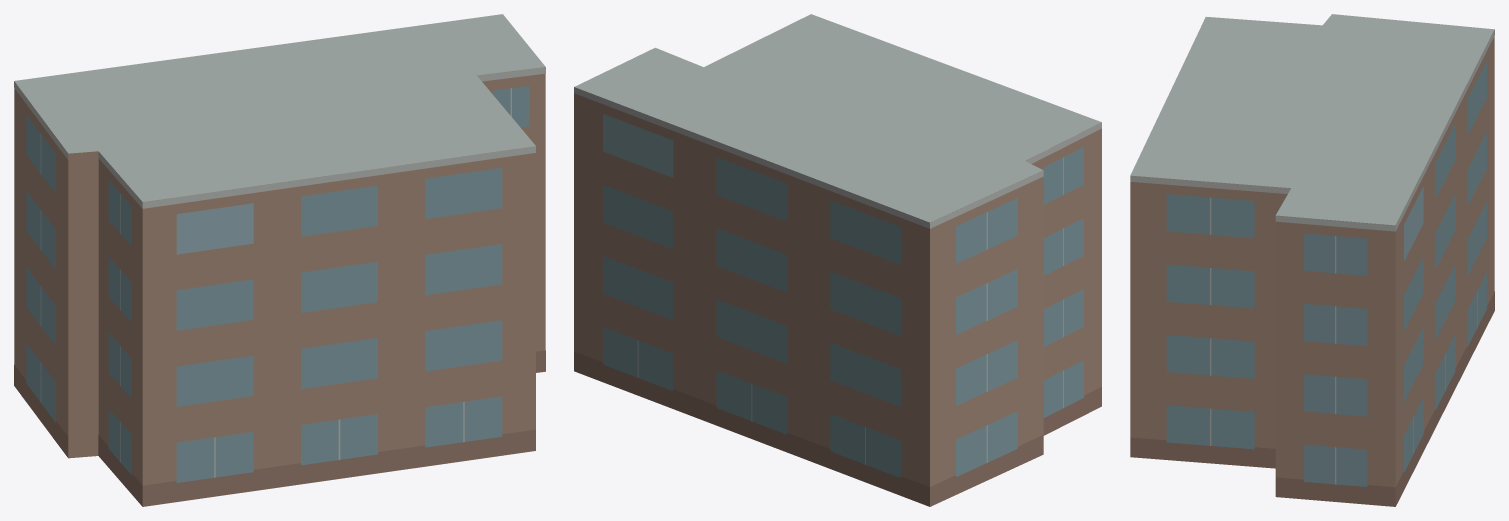
File: survey-upis-32690094.glb
The picture shows the model from 3 angles, left to right: view 1: azimuth 30°, elevation 25°; view 2: azimuth 150°, elevation 25°; view 3: azimuth 270°, elevation 25°; orthographic projection. The views are drawn at different scales.
Visible parts, largest first — view 1: survey-upis-32690094.tmp; view 2: survey-upis-32690094.tmp; view 3: survey-upis-32690094.tmp.
Part boxes in pixels (x1,y1,x2,y2): survey-upis-32690094.tmp: (14,14,545,506); survey-upis-32690094.tmp: (574,14,1101,506); survey-upis-32690094.tmp: (1130,14,1494,506).
Bounding box in the file's own units: 17.89 × 11.1 × 13.04.
